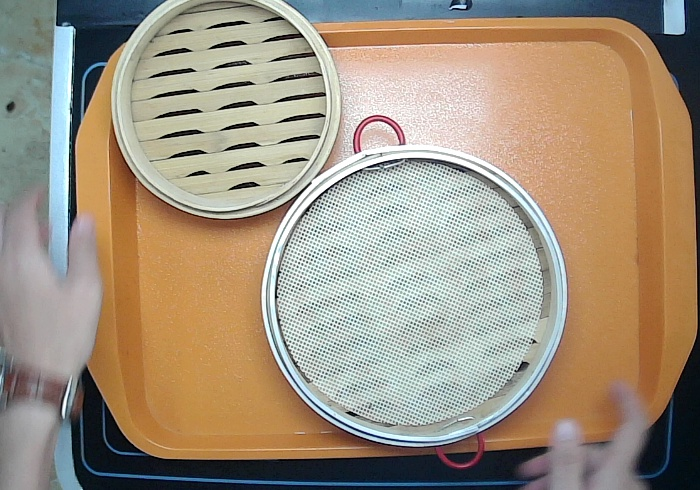ZNLD-Da_Zheng_Long: (255, 107, 582, 473)
ZNLD-Xiao_Zheng_Long: (105, 1, 349, 226)
